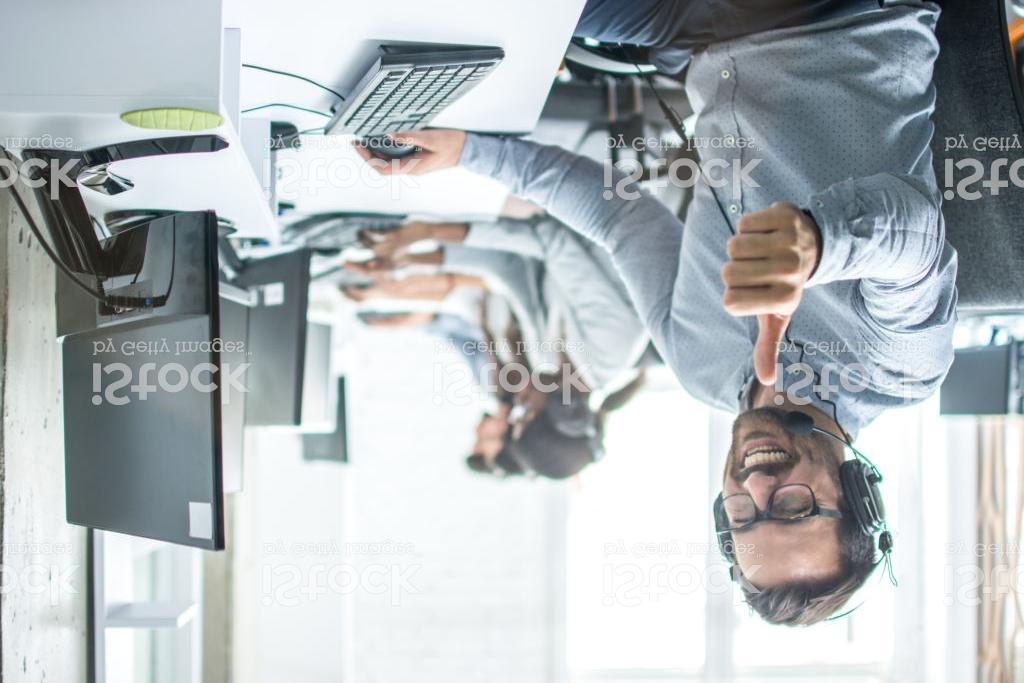thumbsdown: (719, 201, 804, 385)
